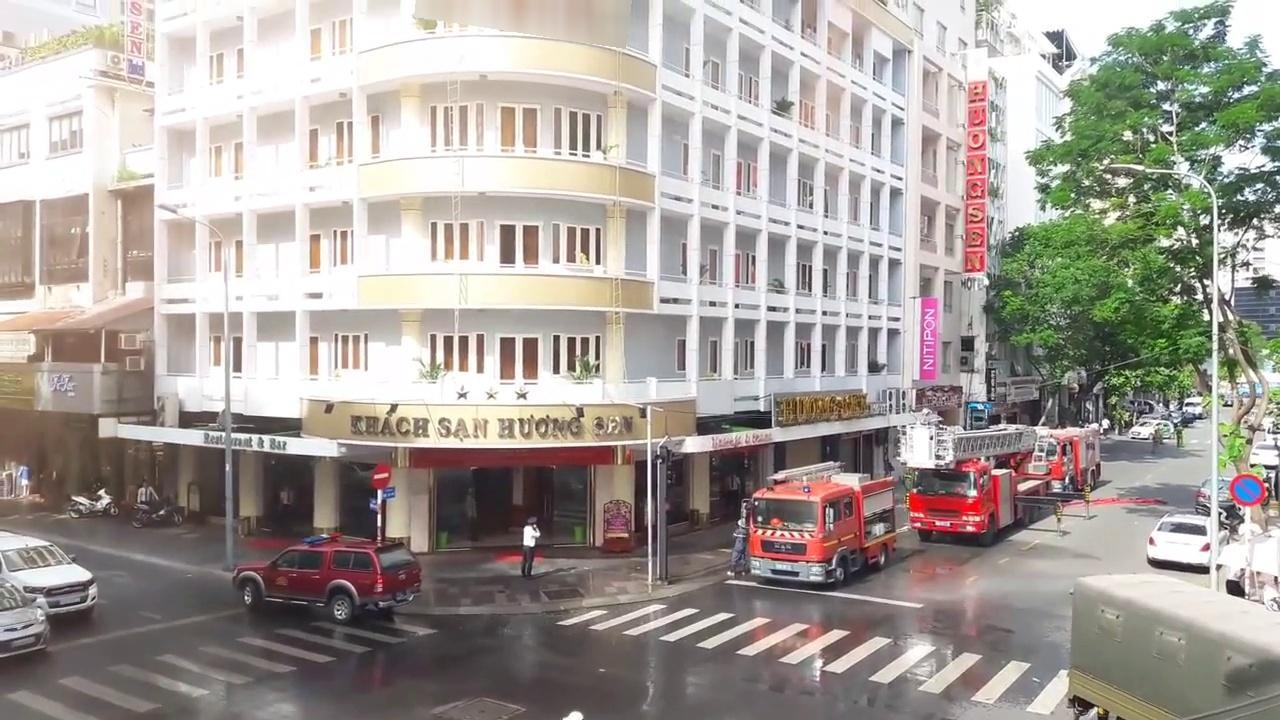xe cuu hoa: (749, 460, 893, 586), (902, 423, 1050, 545)
xe hoi: (231, 530, 420, 624), (0, 529, 96, 613), (0, 577, 48, 657), (1145, 512, 1211, 567)
